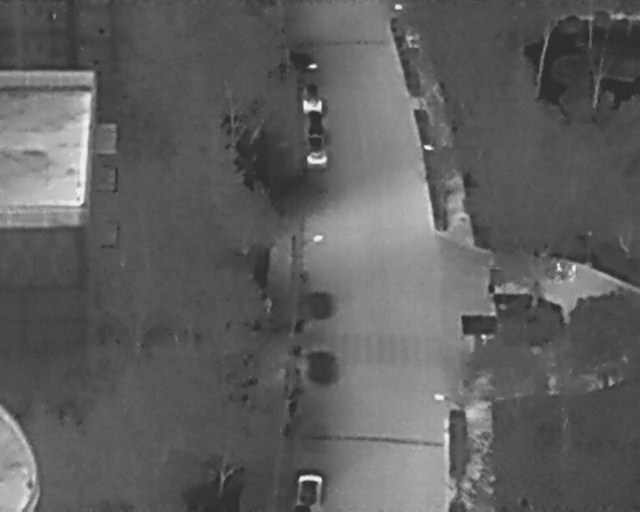Car: (293, 469, 325, 510), (299, 82, 323, 114), (305, 138, 329, 166), (306, 108, 325, 138)
